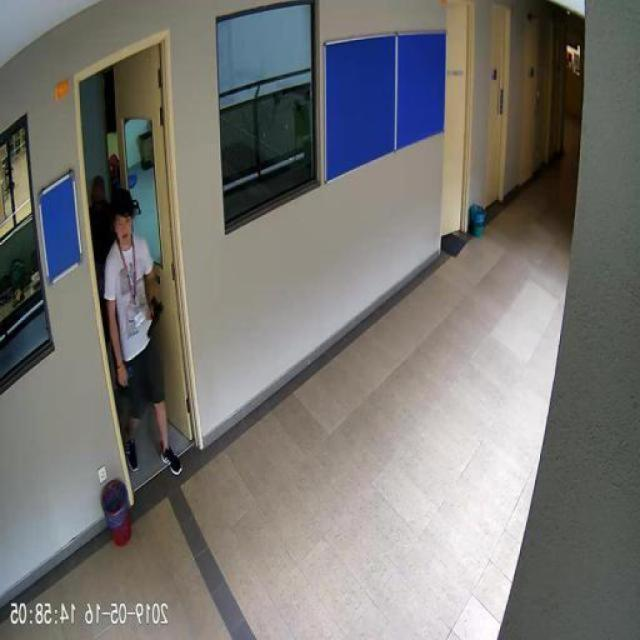pistol: (148, 295, 166, 336)
